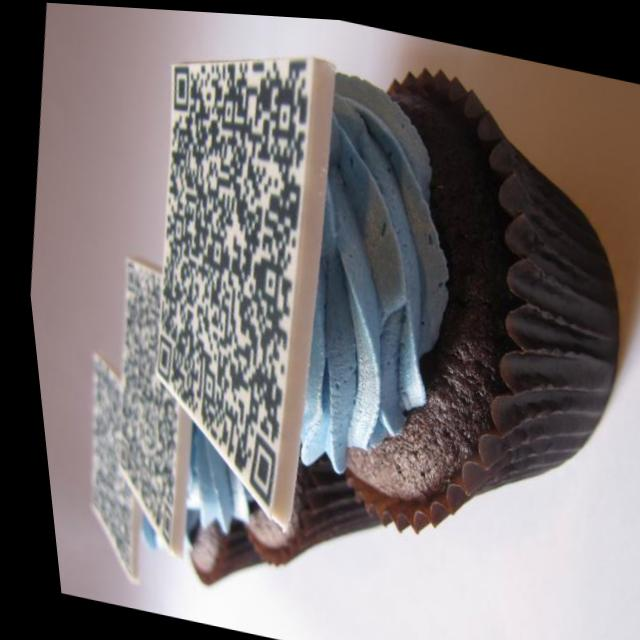qrcode: (105, 26, 347, 511), (80, 260, 204, 548), (56, 353, 154, 577)
